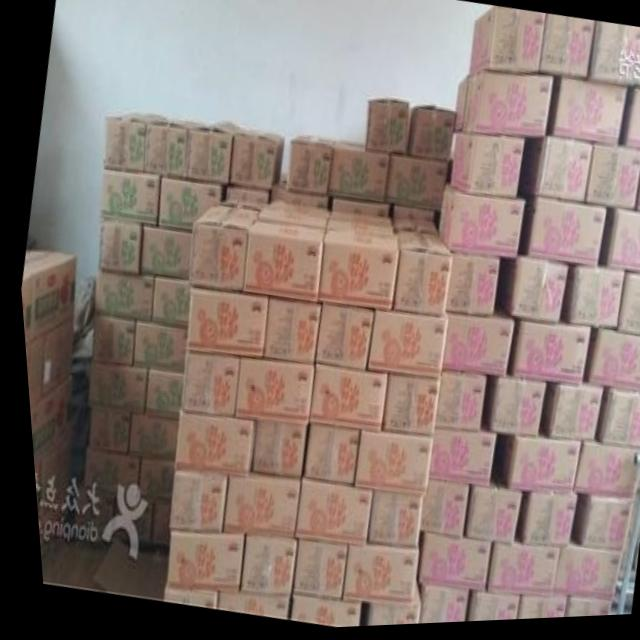box: (238, 215, 323, 305), (313, 225, 394, 312), (434, 189, 522, 265), (185, 207, 257, 295), (460, 75, 551, 143), (181, 289, 264, 361), (361, 314, 443, 382), (503, 325, 586, 392), (522, 204, 602, 273), (166, 414, 250, 478), (303, 367, 382, 435), (228, 362, 309, 428), (286, 483, 365, 549), (348, 434, 426, 500), (387, 233, 446, 320), (468, 12, 545, 77), (215, 475, 293, 539), (551, 83, 624, 150), (516, 142, 591, 207), (19, 250, 71, 343), (448, 137, 521, 203), (436, 315, 509, 381), (158, 533, 235, 593), (410, 536, 482, 597), (334, 547, 409, 605), (500, 262, 565, 328), (498, 441, 575, 495), (558, 271, 620, 335), (579, 335, 640, 399), (310, 306, 369, 372), (422, 433, 489, 491), (258, 299, 316, 366), (477, 547, 550, 600), (325, 144, 387, 206), (100, 113, 165, 172), (567, 447, 633, 505), (173, 355, 234, 416), (161, 471, 220, 534), (545, 551, 613, 605), (457, 485, 515, 548), (537, 19, 594, 83), (583, 151, 640, 215), (155, 177, 219, 234), (376, 378, 434, 439), (440, 257, 495, 321), (381, 160, 445, 215), (141, 121, 201, 179), (296, 428, 353, 489), (283, 542, 340, 603), (97, 170, 159, 226), (587, 26, 640, 91), (24, 377, 63, 465), (481, 382, 539, 441), (231, 538, 289, 597), (566, 499, 627, 555), (182, 125, 238, 185), (507, 496, 569, 550), (538, 389, 597, 445), (227, 132, 282, 192), (244, 422, 300, 480), (427, 376, 482, 434), (90, 272, 150, 323), (360, 494, 414, 550), (83, 364, 142, 415), (411, 483, 461, 542), (590, 395, 640, 453), (128, 324, 183, 376), (136, 228, 188, 282), (405, 111, 454, 166), (285, 139, 331, 197), (36, 318, 69, 397), (77, 451, 133, 497), (363, 103, 408, 160), (121, 415, 172, 463), (358, 584, 412, 629), (280, 597, 351, 630), (87, 315, 131, 368), (603, 217, 640, 278), (94, 222, 137, 274), (146, 279, 187, 330), (207, 594, 280, 622), (409, 587, 459, 627), (82, 409, 124, 455), (139, 373, 176, 420), (613, 278, 640, 341), (130, 460, 166, 505), (458, 597, 510, 625), (618, 92, 640, 155), (509, 600, 557, 624), (555, 602, 602, 622)
